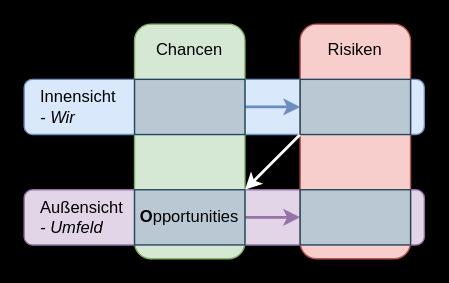
Image size: 449x283. Some labels were removed from this diagram. The centre of each missing label's shape, as x and y in pixels:
"S trengths" belongs at [189,106].
"T hreats" belongs at [355,216].
"W eaknesses" belongs at [355,106].
